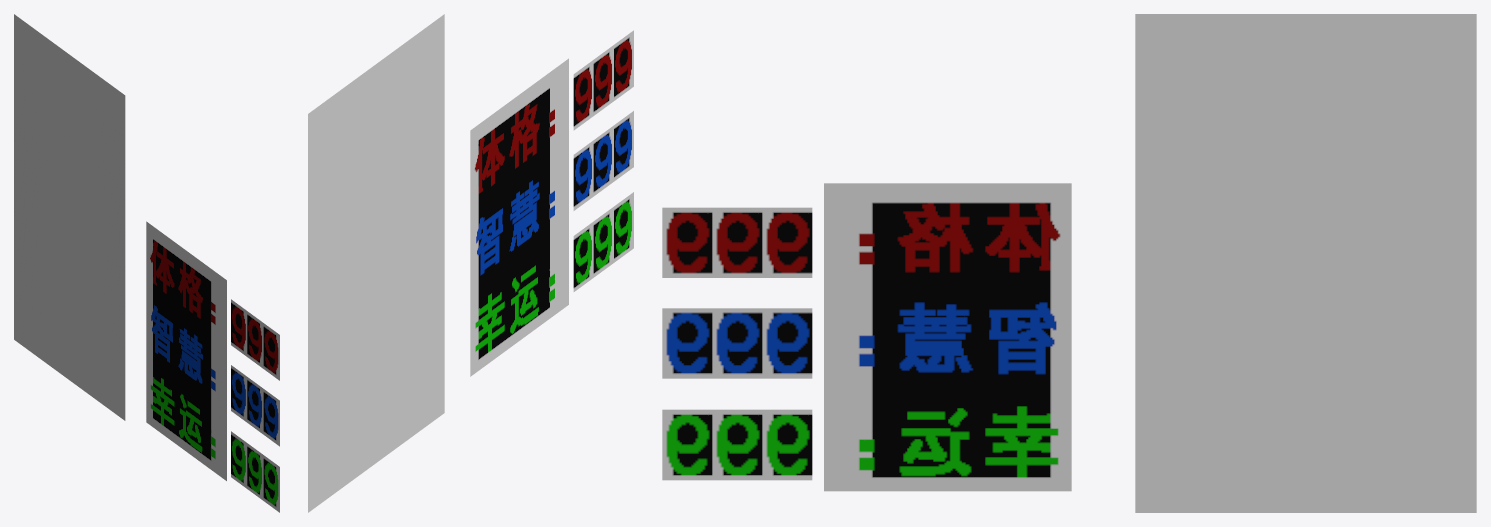
File: M_Dcansaichongwu.FBX
3 views of the same model, side by side, from view 1: azimuth 30°, elevation 25°; view 2: azimuth 150°, elevation 25°; view 3: azimuth 270°, elevation 25° (orthographic). The views are drawn at different scales.
Visible parts, largest first — view 1: M_Dcansaichongwu_01, M_Dcansaichongwu_02, M_Dcansaichongwu_03; view 2: M_Dcansaichongwu_01, M_Dcansaichongwu_02, M_Dcansaichongwu_03; view 3: M_Dcansaichongwu_01, M_Dcansaichongwu_02, M_Dcansaichongwu_03.
Boxes of the visible parts, <box> form: M_Dcansaichongwu_01: <box>14,14,125,420</box>; M_Dcansaichongwu_02: <box>146,221,226,480</box>; M_Dcansaichongwu_03: <box>231,299,279,512</box>; M_Dcansaichongwu_01: <box>308,14,444,512</box>; M_Dcansaichongwu_02: <box>470,58,568,376</box>; M_Dcansaichongwu_03: <box>573,30,633,291</box>; M_Dcansaichongwu_01: <box>1135,14,1476,512</box>; M_Dcansaichongwu_02: <box>824,183,1071,491</box>; M_Dcansaichongwu_03: <box>662,207,812,480</box>.
Bounding box in the file's own units: 8.98e-07 × 2.26 × 3.35.
